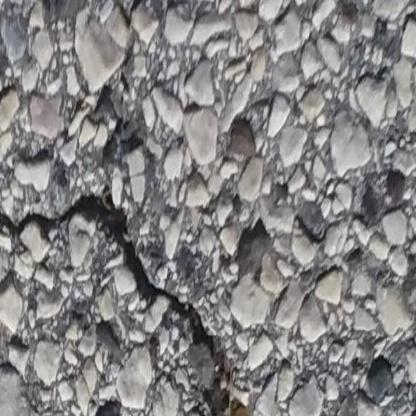Cracks: (0, 182, 293, 416)
